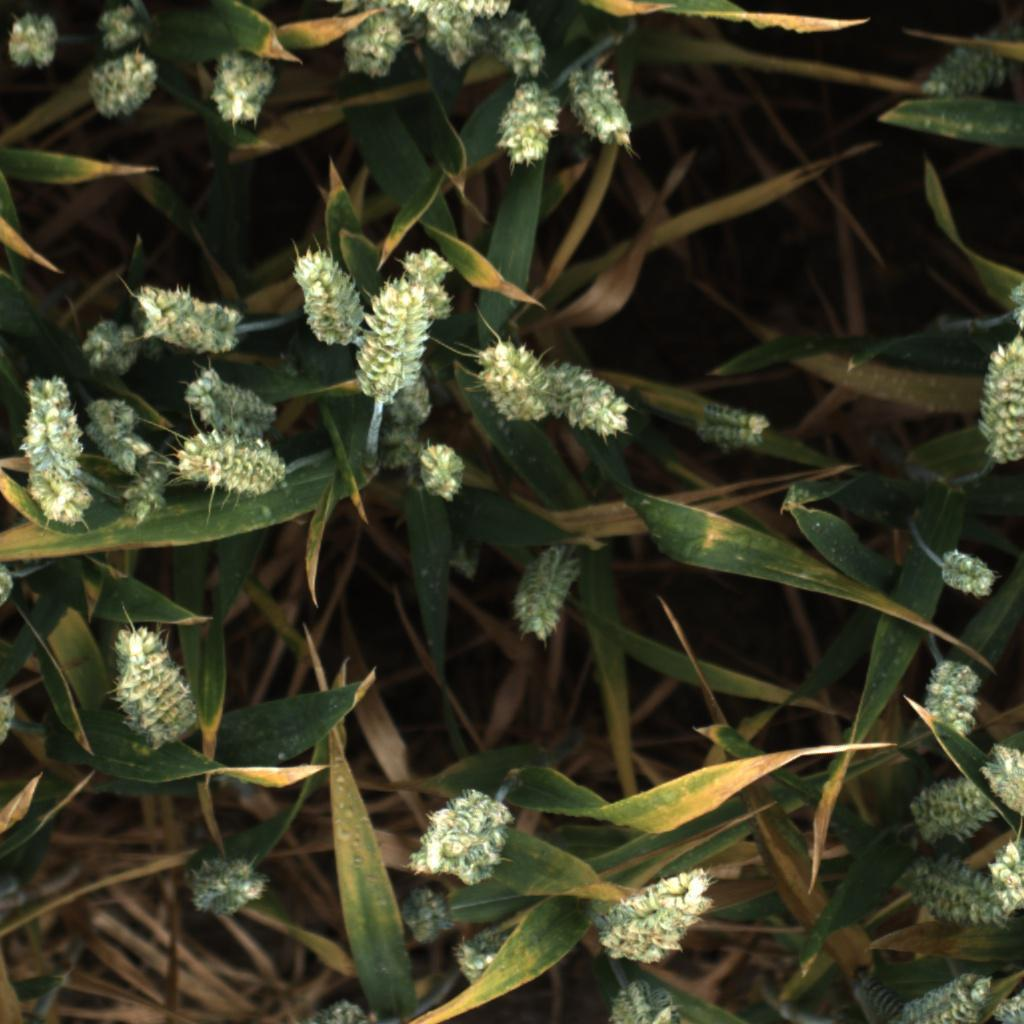0-0: (407, 778, 521, 887), (590, 865, 708, 968), (107, 622, 201, 746), (357, 280, 430, 404), (129, 278, 243, 357), (365, 369, 445, 477), (16, 370, 88, 486), (506, 545, 585, 641), (288, 246, 364, 344), (176, 434, 288, 498), (79, 51, 164, 133), (907, 853, 998, 929), (487, 82, 566, 169), (907, 768, 996, 845), (881, 964, 991, 1024), (473, 338, 550, 423), (180, 369, 279, 435), (177, 853, 266, 925), (976, 335, 1024, 468), (552, 363, 631, 443), (915, 36, 1015, 96), (207, 51, 278, 132), (572, 66, 639, 148), (398, 240, 458, 326), (338, 14, 405, 80), (411, 435, 471, 508), (928, 659, 992, 727), (77, 317, 147, 379), (120, 457, 183, 523), (8, 2, 64, 75), (934, 546, 1004, 604), (693, 398, 769, 451), (23, 471, 96, 526), (423, 12, 485, 76), (446, 917, 505, 984), (401, 886, 461, 950), (495, 12, 551, 79), (91, 0, 149, 63), (93, 412, 160, 463), (614, 976, 684, 1024), (87, 390, 146, 444), (985, 742, 1024, 815), (995, 831, 1024, 922), (289, 996, 382, 1024), (448, 527, 490, 576)
